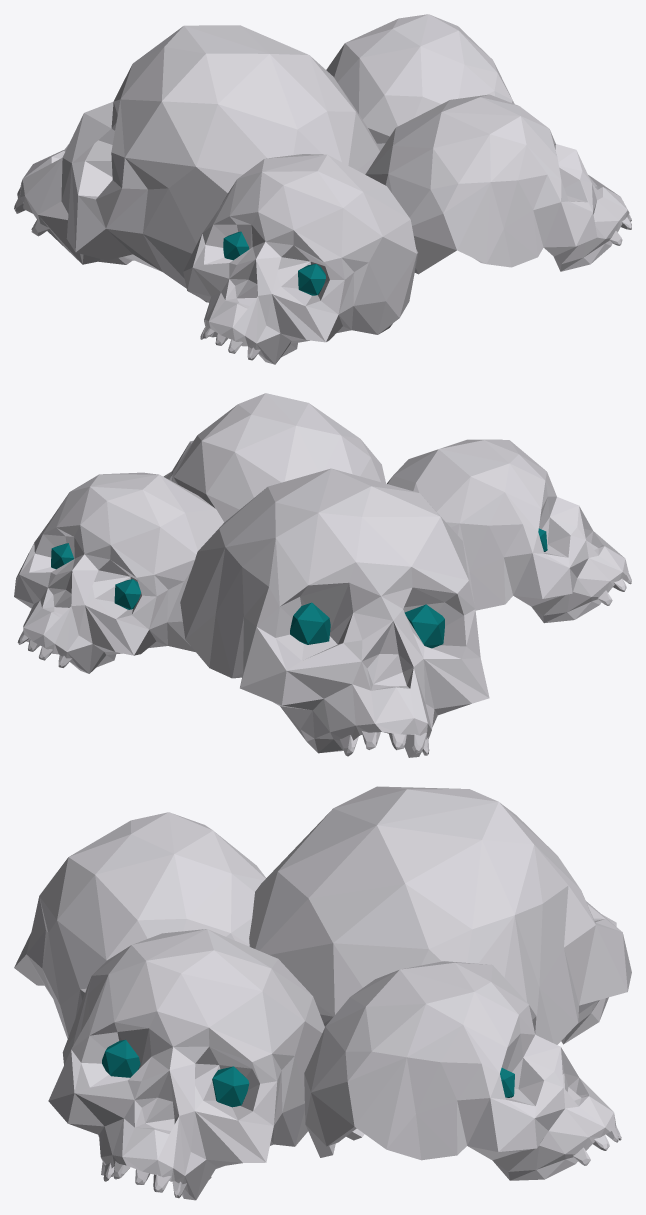
Rendered from Skull_Group.fbx.
3 views of the same model, one above another, from view 1: azimuth 30°, elevation 25°; view 2: azimuth 150°, elevation 25°; view 3: azimuth 270°, elevation 25° (orthographic). The views are drawn at different scales.
Parts seen in each view (by area): view 1: Skull_Group; view 2: Skull_Group; view 3: Skull_Group.
Boxes of the visible parts, <box> form: Skull_Group: <box>14,14,631,364</box>; Skull_Group: <box>14,393,631,757</box>; Skull_Group: <box>14,786,631,1200</box>.
Size of the model in its own units: 0.7625 by 0.3738 by 0.738.
